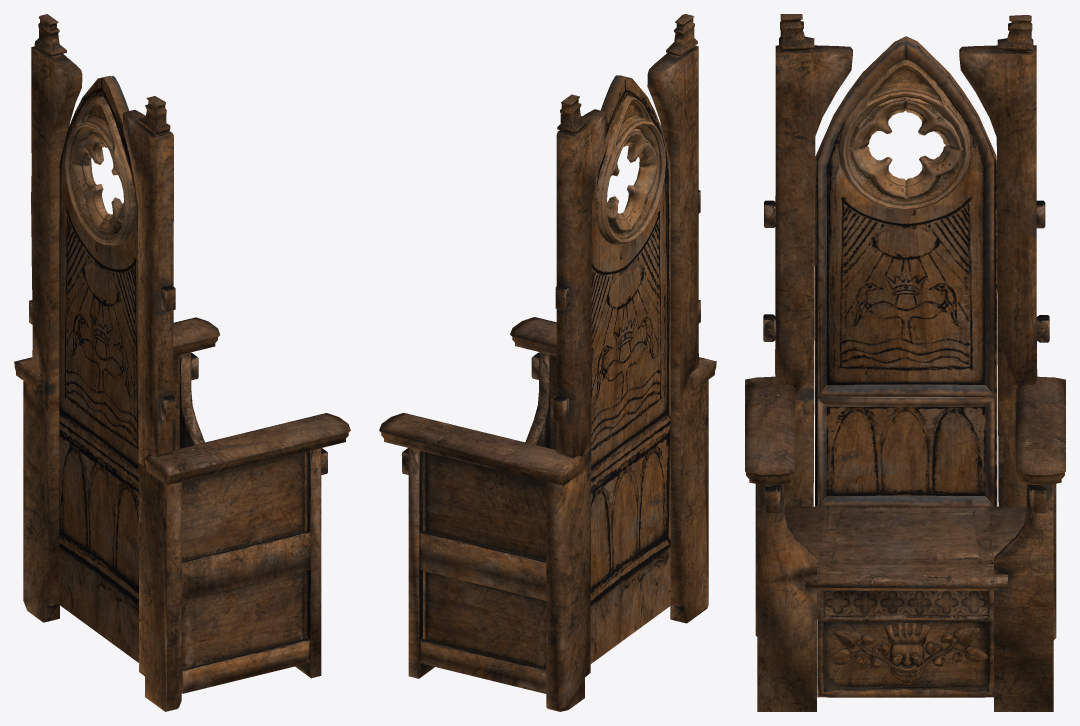
Rendered from throne_bfc6d2.fbx.
The picture shows the model from 3 angles, left to right: view 1: azimuth 30°, elevation 25°; view 2: azimuth 150°, elevation 25°; view 3: azimuth 270°, elevation 25°; orthographic projection. The views are drawn at different scales.
Visible parts, largest first — view 1: throne_bfc6d2; view 2: throne_bfc6d2; view 3: throne_bfc6d2.
Boxes of the visible parts, x1,y1,x2,y2 form: throne_bfc6d2: (14,14,350,711); throne_bfc6d2: (379,14,716,711); throne_bfc6d2: (745,14,1065,711).
Bounding box in the file's own units: 0.6518 × 2 × 0.9346.
Materials: 1 (1 with a texture image).
